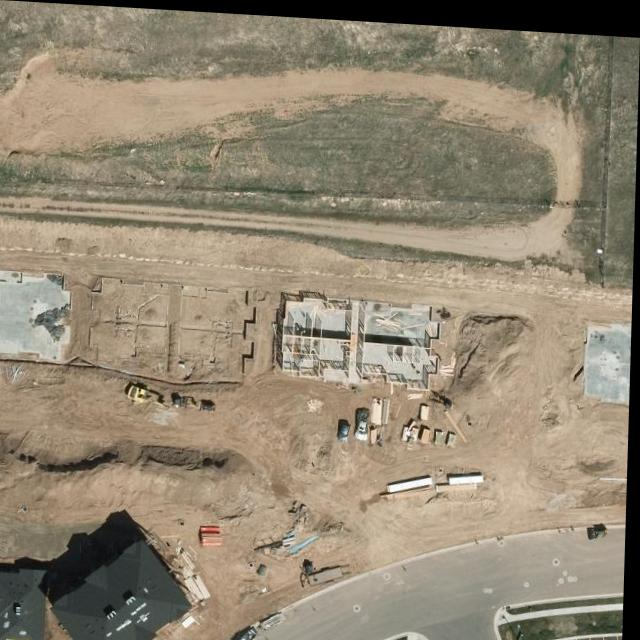vehicle: (356, 403, 373, 438), (231, 623, 265, 640), (339, 417, 353, 438)
